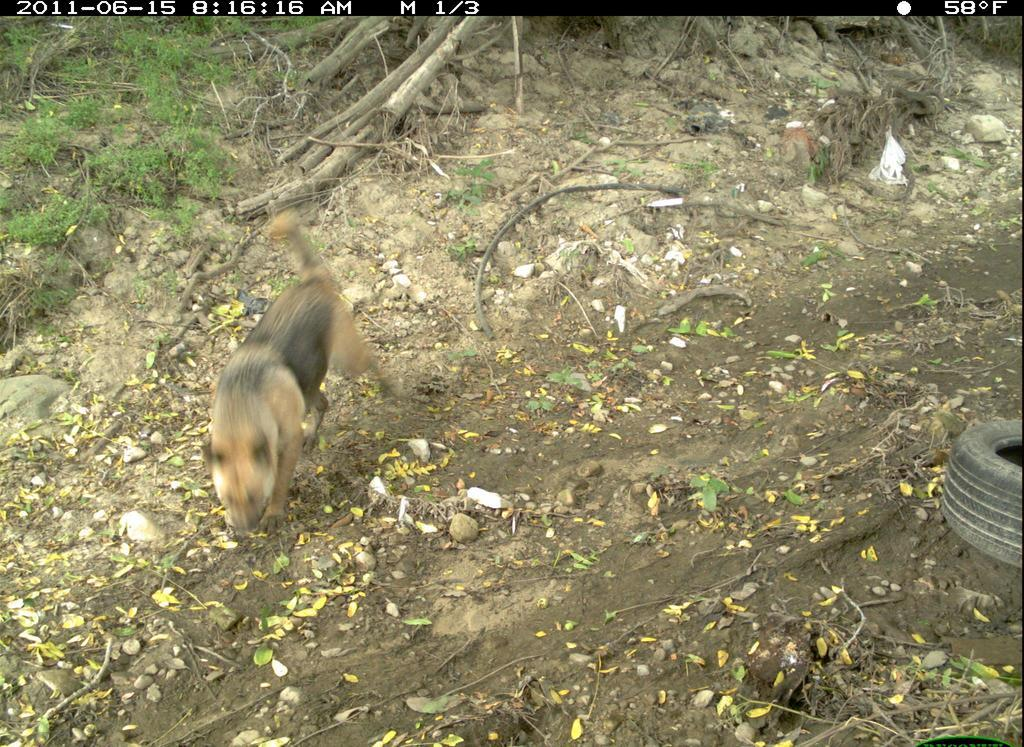dog: (195, 200, 414, 541)
